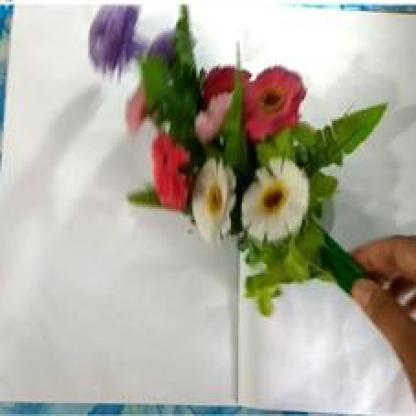flower: (50, 0, 398, 365)
